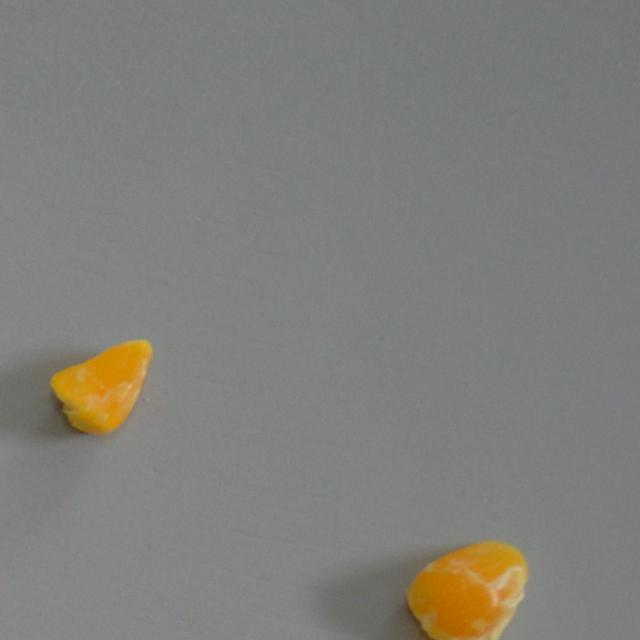pelicula: (408, 530, 524, 640), (42, 329, 150, 434)
